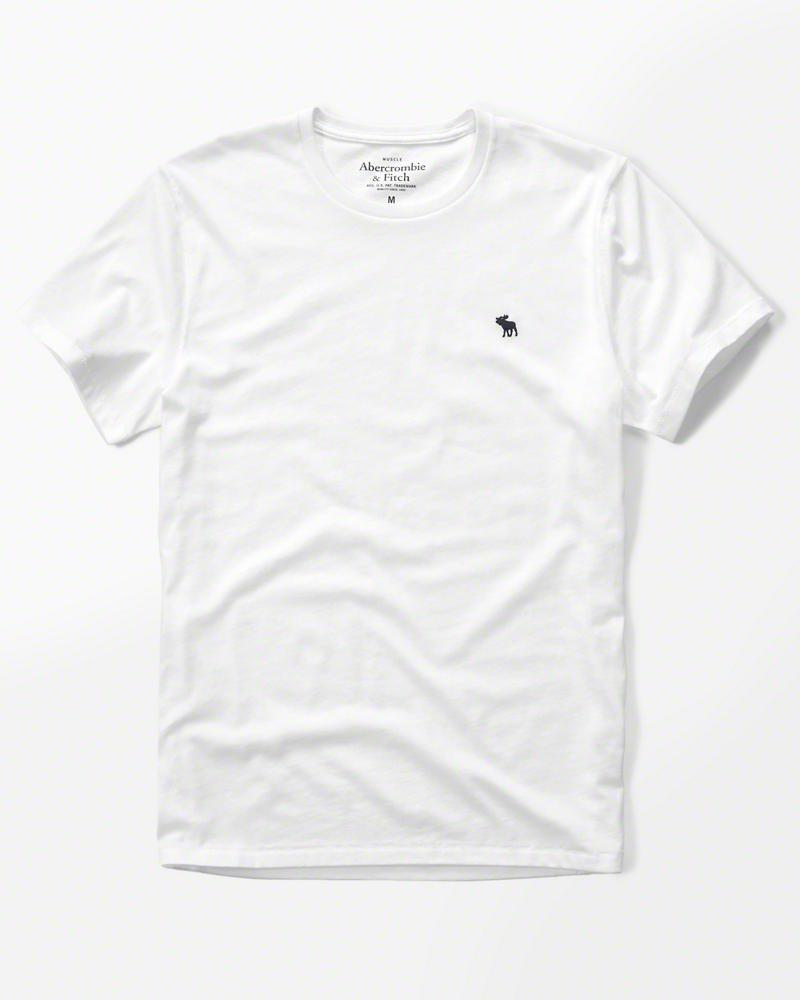teeshirt: (26, 92, 771, 906)
